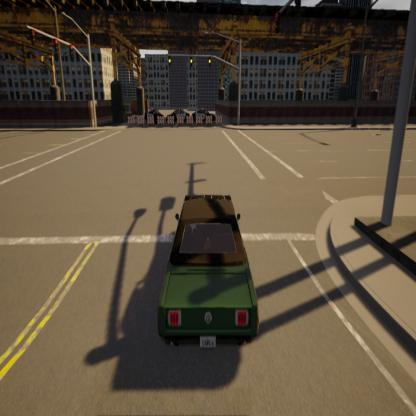Cars: (117, 154, 292, 386)
